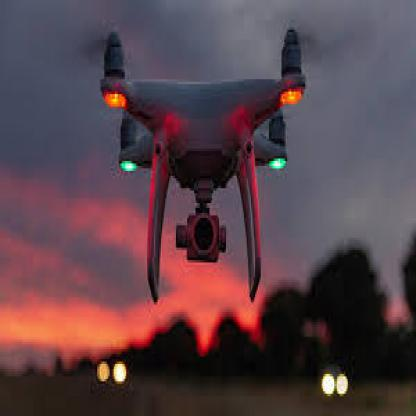UAS: (100, 30, 305, 304)
